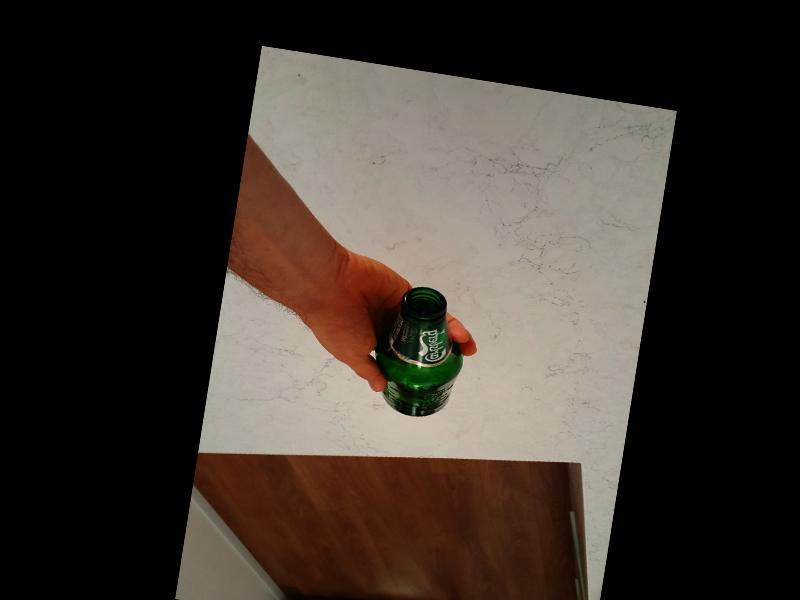Beer: (367, 281, 472, 423)
